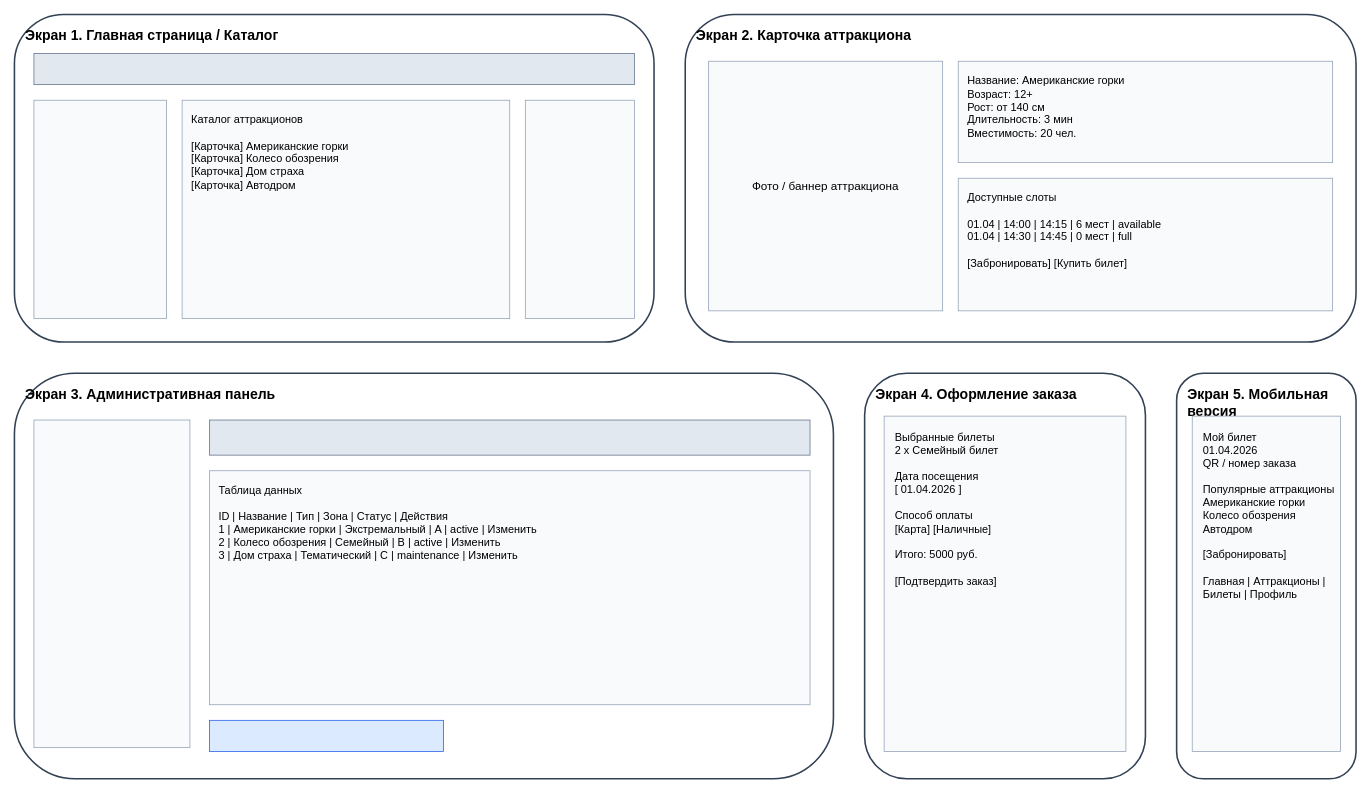
The diagram is 1370 pixels wide and 792 high, and some of its shapes have lost their labels. The shapes that lost their labels are listed below. From the top down, each one's centre as x and y in pixels, then its label:
At point (334, 69): "Логотип | Поиск | Каталог | Билеты | Мои бронирования | Профиль".
At point (100, 209): "Фильтры Возраст Зона Тип аттракциона Доступность".
At point (580, 209): "Быстрый доступ Корзина Ближайшая бронь QR билета".
At point (509, 437): "Поиск | Фильтр по статусу | Период | Экспорт".
At point (111, 583): "Меню Пользователи Аттракционы Слоты Билеты Обслуживание Отчеты".
At point (326, 736): "[Добавить] [Изменить] [Удалить]".
